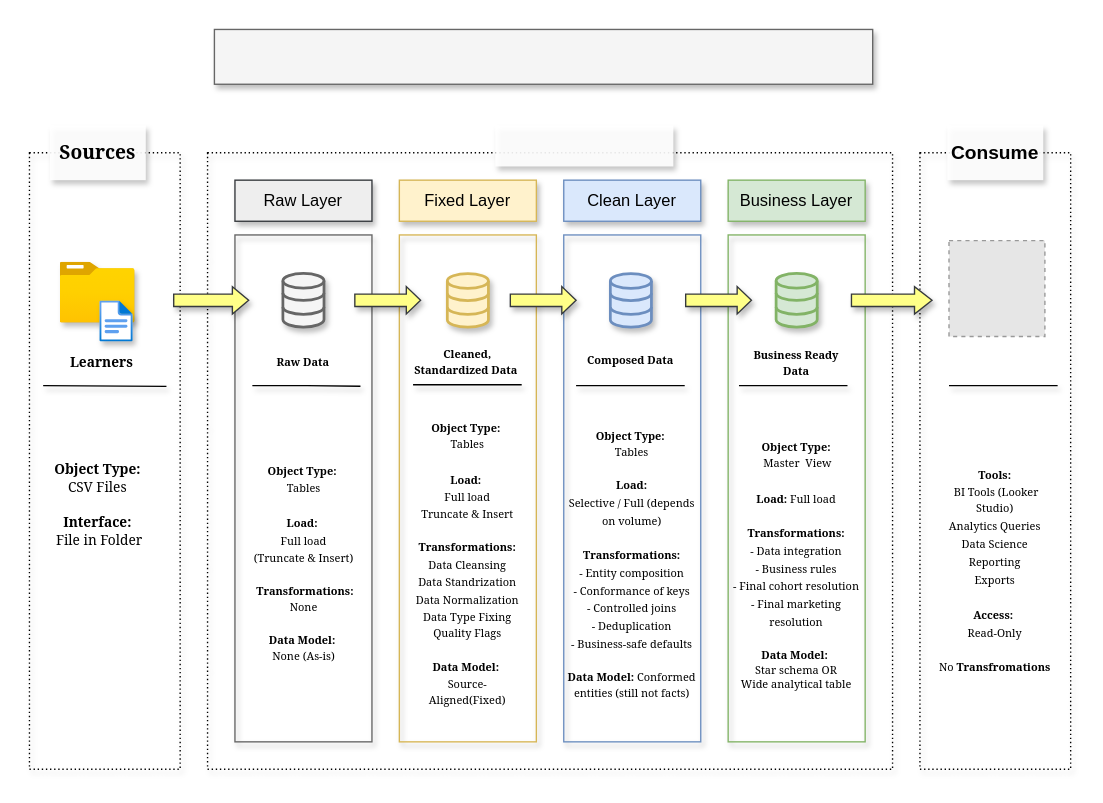
This 1103x803 diagram has some shape labels left out. Grey dashed boxes stand in for pictures. Each missing label, with the centre of its shape:
"Data Warehouse" belongs at (585,147).
"Layered Data Warehouse Architechture" belongs at (544,58).
